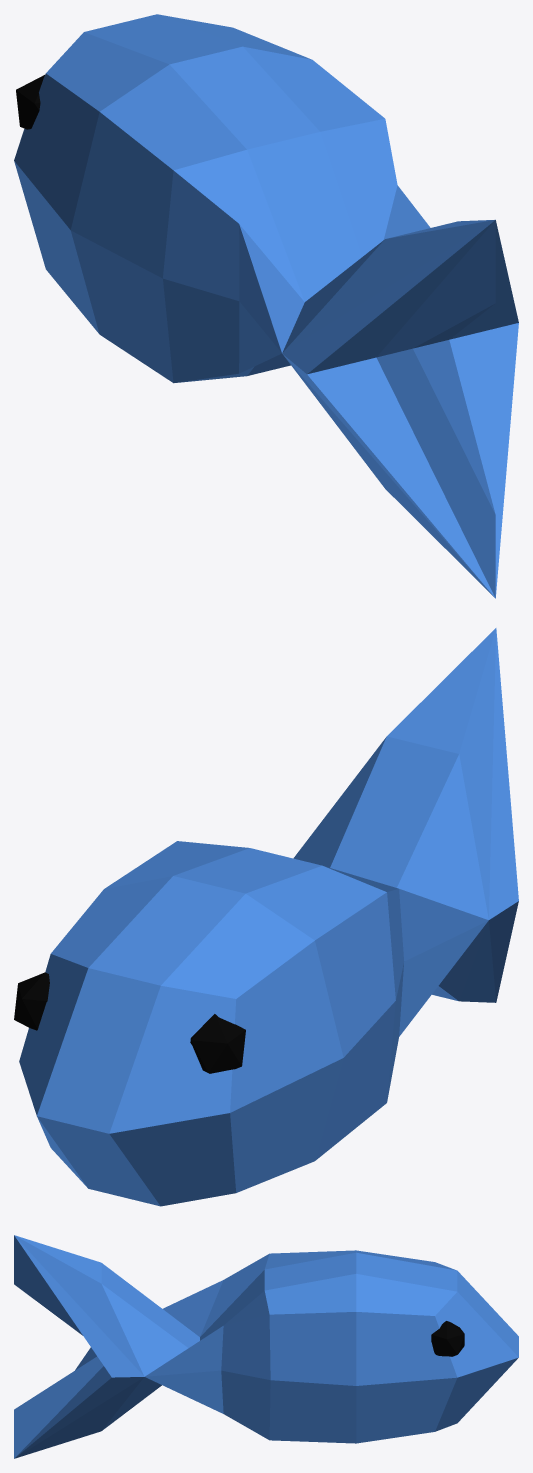
File: fish-centered.glb
3 views of the same model, one above another, from view 1: azimuth 30°, elevation 25°; view 2: azimuth 150°, elevation 25°; view 3: azimuth 270°, elevation 25° (orthographic). The views are drawn at different scales.
Visible parts, largest first — view 1: Icosphere.003; view 2: Icosphere.003; view 3: Icosphere.003.
Boxes of the visible parts, bbox=[...] form: Icosphere.003: bbox=[14, 14, 518, 598]; Icosphere.003: bbox=[14, 628, 518, 1206]; Icosphere.003: bbox=[14, 1235, 518, 1458].
Size of the model in its own units: 0.691 by 0.9238 by 1.89.
